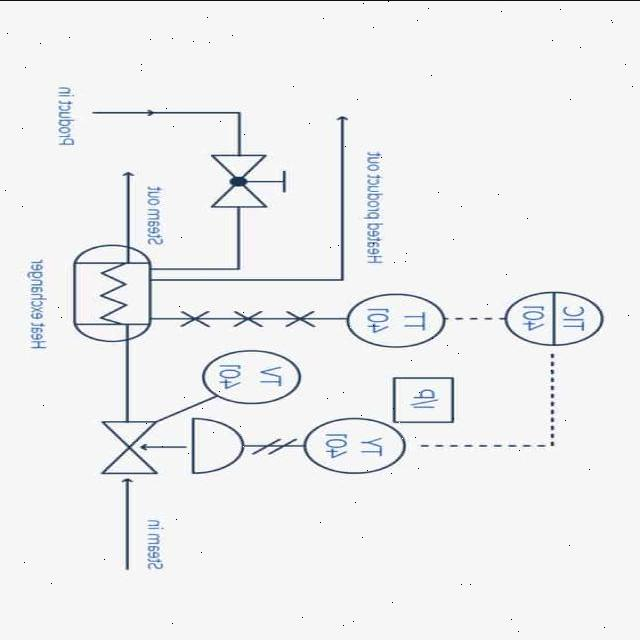Fail Closed Safe Position: (99, 412, 252, 492)
Hand Operated Globe Valve: (193, 138, 304, 230)
